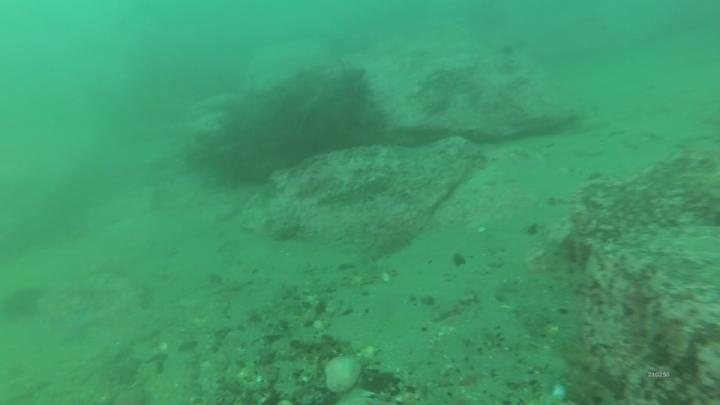holothurian: (289, 331, 352, 364)
scallop: (321, 352, 365, 397)
